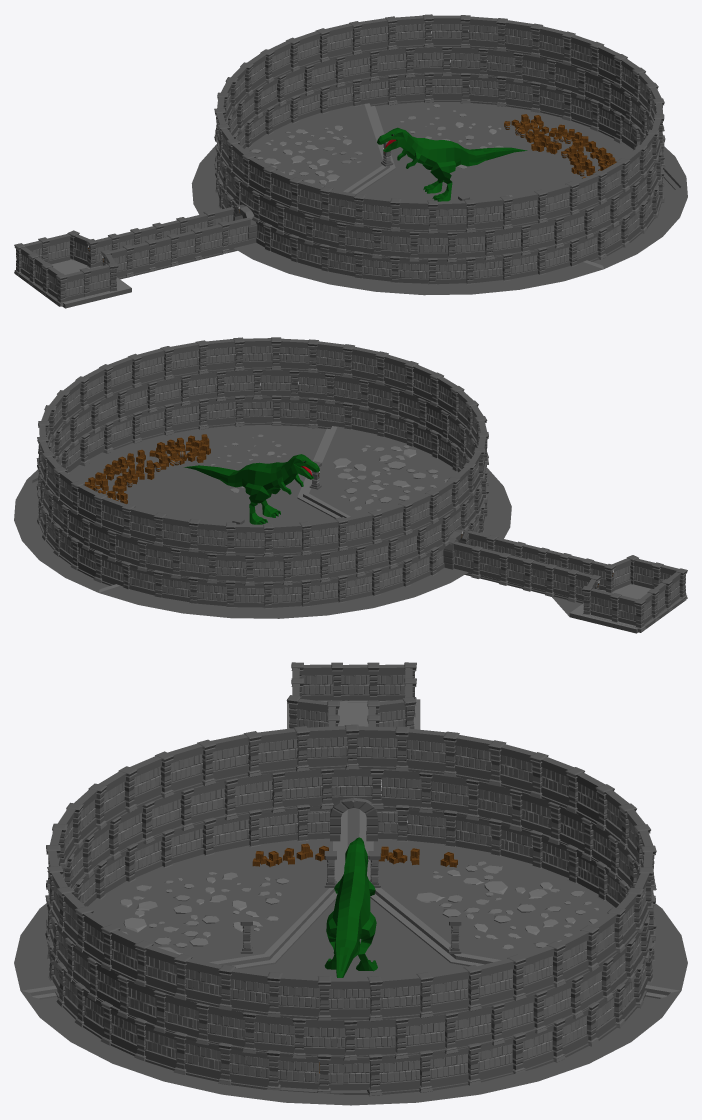
Rendered from duengeon 1.fbx.
The picture shows the model from 3 angles, top to bottom: view 1: azimuth 30°, elevation 25°; view 2: azimuth 150°, elevation 25°; view 3: azimuth 270°, elevation 25°; orthographic projection. The views are drawn at different scales.
Parts seen in each view (by area): view 1: arena duvar, zemin arena, dış duvarlar, Plane, kapı; view 2: arena duvar, zemin arena, dış duvarlar, Plane, kapı; view 3: arena duvar, zemin arena, dış duvarlar, Plane, kapı.
Part boxes in pixels (x1,y1,x2,y2): arena duvar: [214, 14, 665, 284]; zemin arena: [14, 86, 687, 308]; dış duvarlar: [14, 206, 251, 306]; Plane: [377, 127, 527, 201]; kapı: [232, 204, 257, 243]; arena duvar: [36, 337, 488, 608]; zemin arena: [14, 409, 686, 633]; dış duvarlar: [451, 530, 687, 631]; Plane: [184, 454, 319, 524]; kapı: [443, 529, 469, 569]; arena duvar: [45, 724, 656, 1096]; zemin arena: [14, 698, 687, 1105]; dış duvarlar: [286, 662, 416, 728]; Plane: [324, 837, 377, 977]; kapı: [330, 797, 377, 841].
Bounding box in the file's own units: 18530 × 2520 × 12932.
